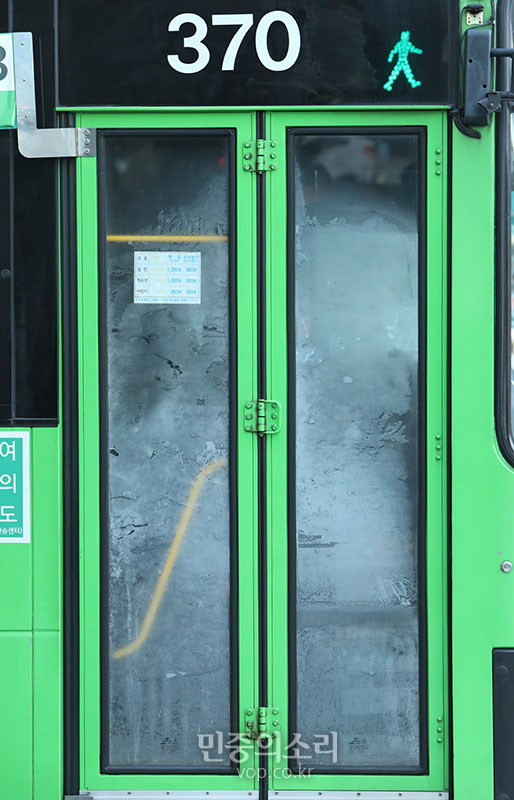out: (21, 5, 514, 792)
